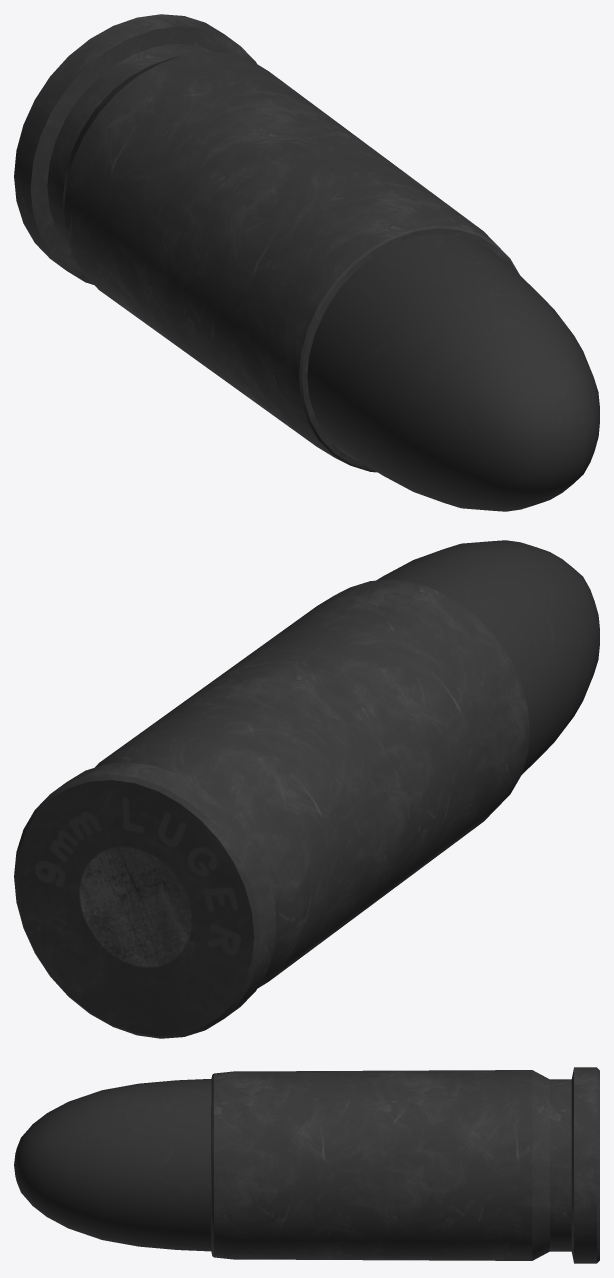
The model's file is bullet.fbx.
3 renders of one model, top to bottom at view 1: azimuth 30°, elevation 25°; view 2: azimuth 150°, elevation 25°; view 3: azimuth 270°, elevation 25°, orthographic. The views are drawn at different scales.
Visible parts, largest first — view 1: 9mm_Shell, 9mm_Bullet; view 2: 9mm_Shell, 9mm_Bullet; view 3: 9mm_Shell, 9mm_Bullet.
Part boxes in pixels (x1=…): 9mm_Shell: x1=14, y1=14, x2=519, y2=472; 9mm_Bullet: x1=307, y1=233, x2=599, y2=511; 9mm_Shell: x1=14, y1=579, x2=529, y2=1038; 9mm_Bullet: x1=376, y1=540, x2=599, y2=774; 9mm_Shell: x1=211, y1=1067, x2=599, y2=1263; 9mm_Bullet: x1=14, y1=1078, x2=211, y2=1251.
Bounding box in the file's own units: 2.04 × 2.04 × 6.07.
Materials: 2 (2 with a texture image).
